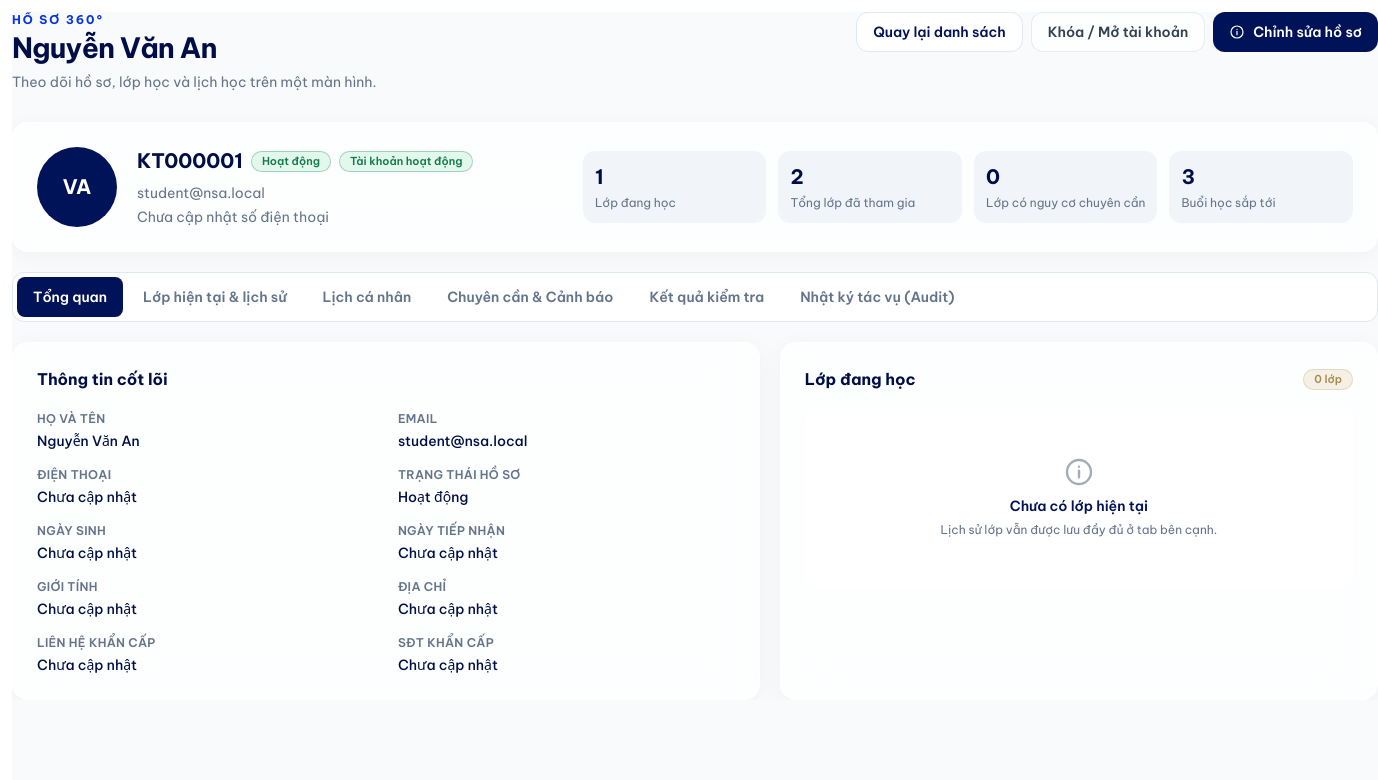
Test: PersonProfilePage › shows the core profile and exposes history and personal schedule tabs
The image size is (1378, 780).
Expected: the heading "KT000001" is shown, [137,147,243,175]
Expected: the tab "Lớp hiện tại & lịch sử" is shown, [127,277,302,317]
Click the tab "Lịch cá nhân" at (367, 297), box [306,277,427,317]
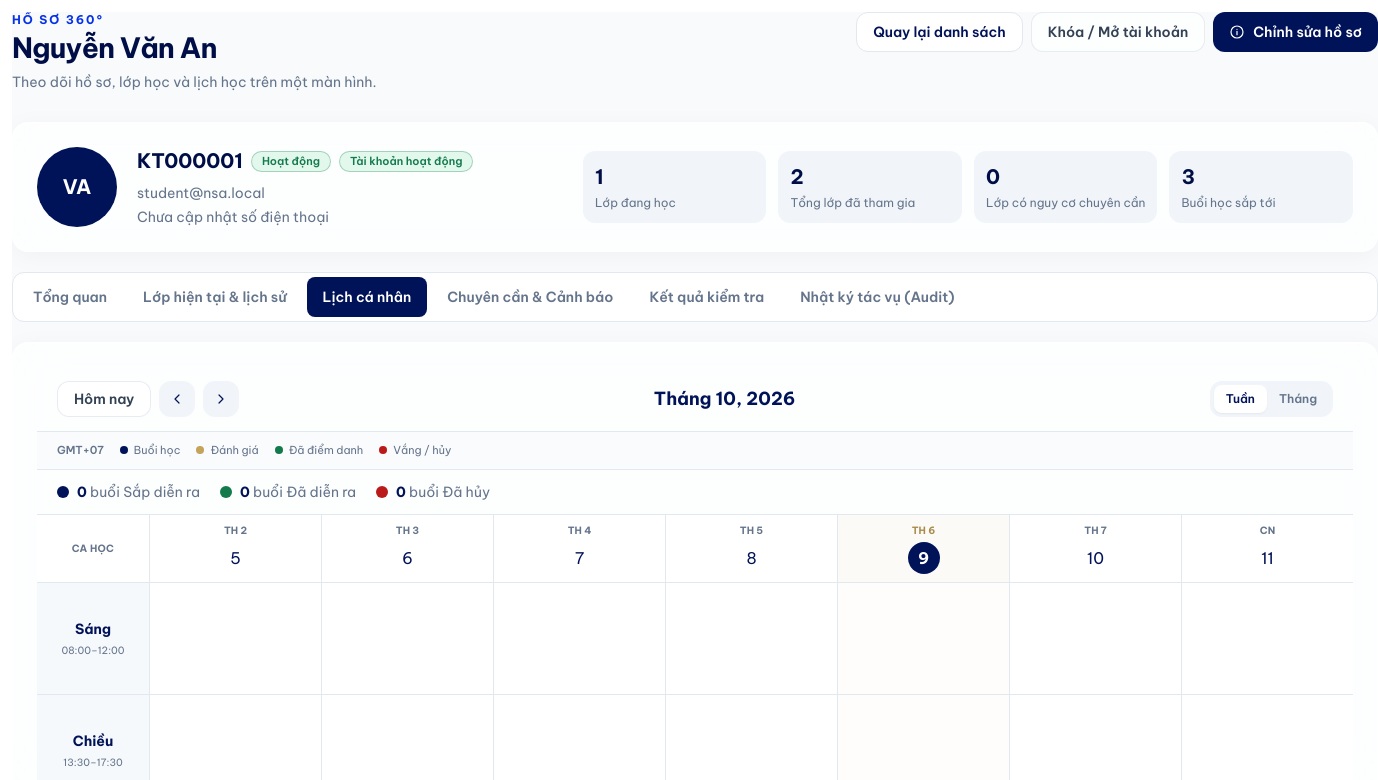
Now the button "Hôm nay" is shown, box [57,381,151,417]
Now the button named "Tuần trước" is shown, box [159,381,195,417]
